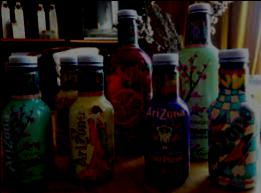Plastic: (143, 51, 191, 185)
